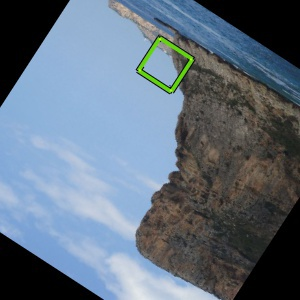square: (134, 34, 196, 96)
